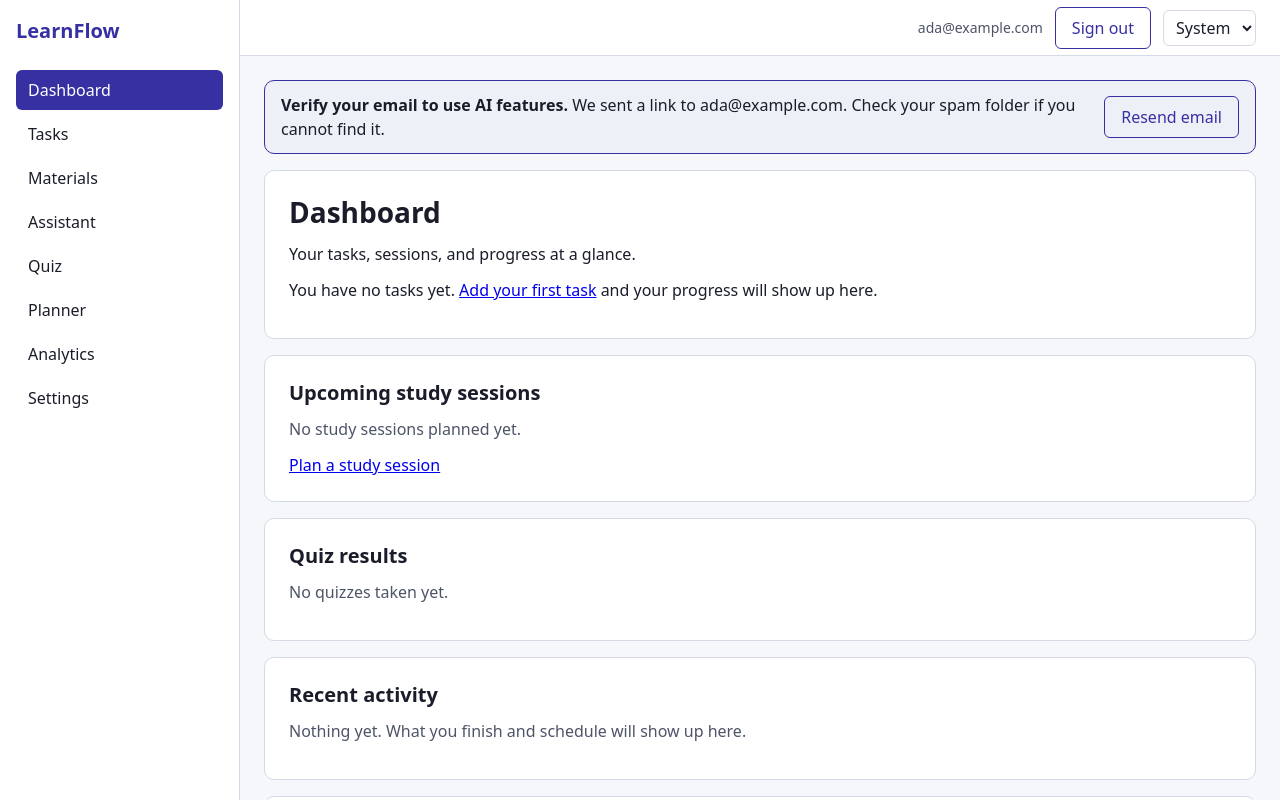
Test: verification banner › sends a new email with the CSRF header and confirms it
The image size is (1280, 800).
Click the button "Resend email" at (1172, 117), box [1104, 96, 1239, 138]
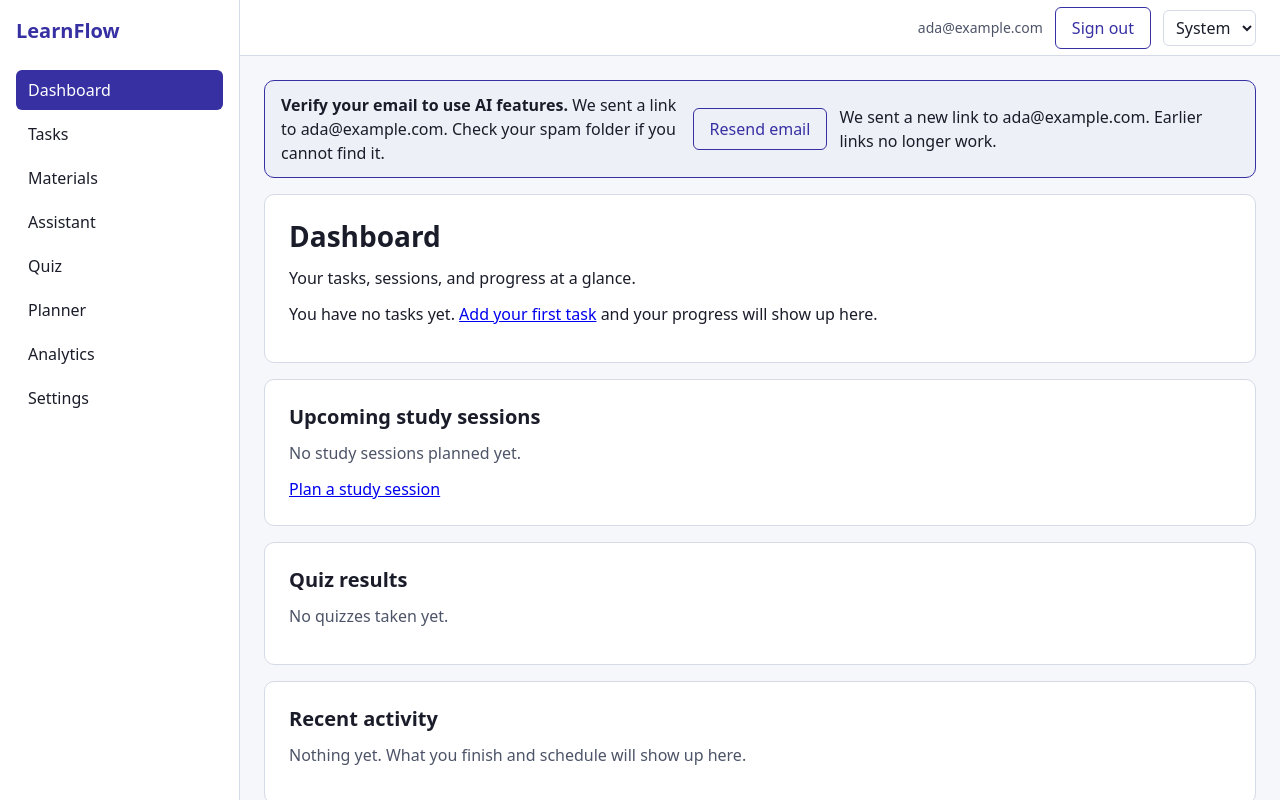
expect the text "LearnFlow" is shown: met, box [16, 17, 120, 44]
expect the text "We sent a new link to ada@example.com. Earlier links no longer work." is shown: met, box [839, 105, 1239, 153]
